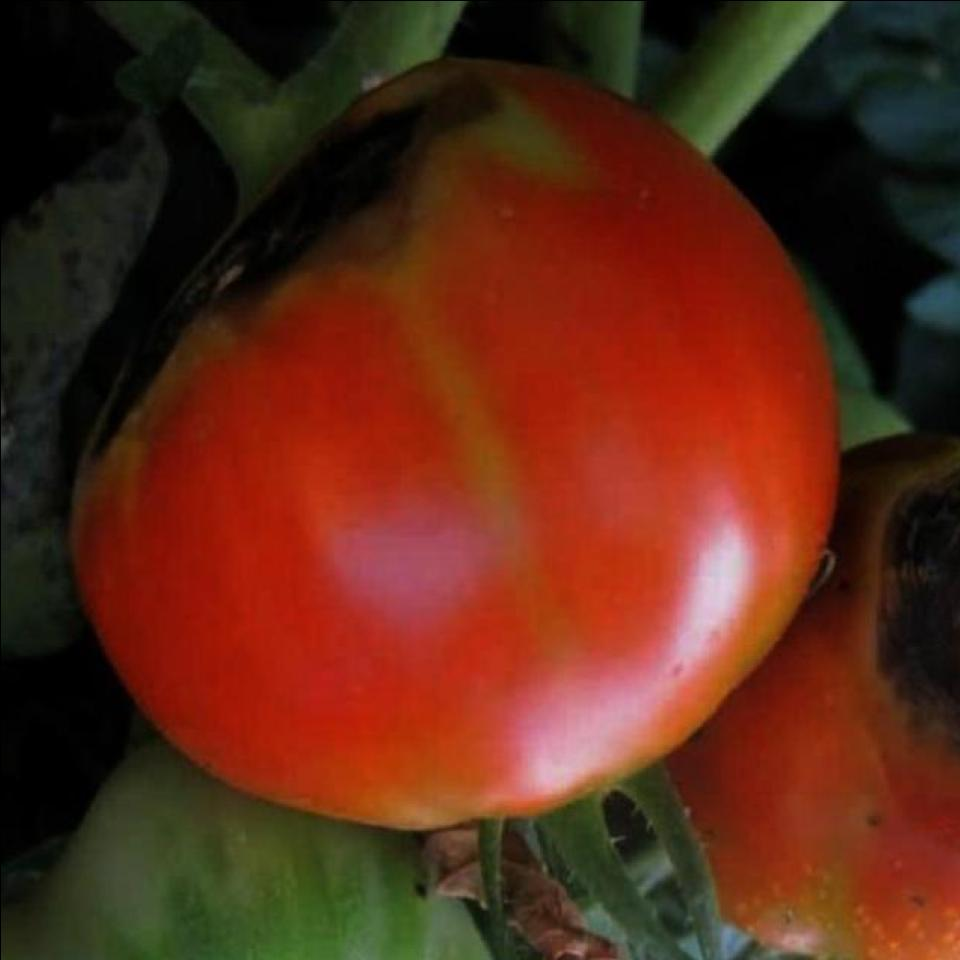Blossom_end_rot: (67, 111, 520, 539), (855, 496, 952, 815)
